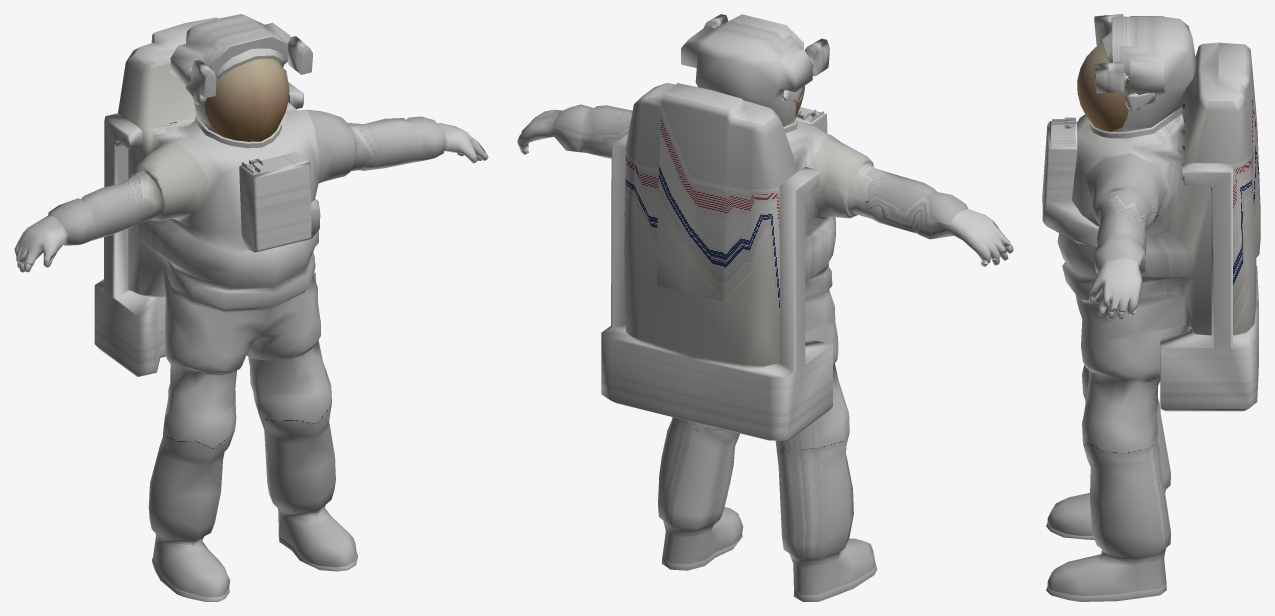
The model's file is astronaut.glb.
3 renders of one model, left to right at view 1: azimuth 30°, elevation 25°; view 2: azimuth 150°, elevation 25°; view 3: azimuth 270°, elevation 25°, orthographic. The views are drawn at different scales.
Visible parts, largest first — view 1: astronaut1; view 2: astronaut1; view 3: astronaut1.
Boxes of the visible parts, <box> form: astronaut1: <box>14,14,488,601</box>; astronaut1: <box>517,14,1013,601</box>; astronaut1: <box>1042,14,1260,601</box>.
Size of the model in its own units: 1.76 by 1.9 by 0.7051.
Materials: 2 (2 with a texture image).
